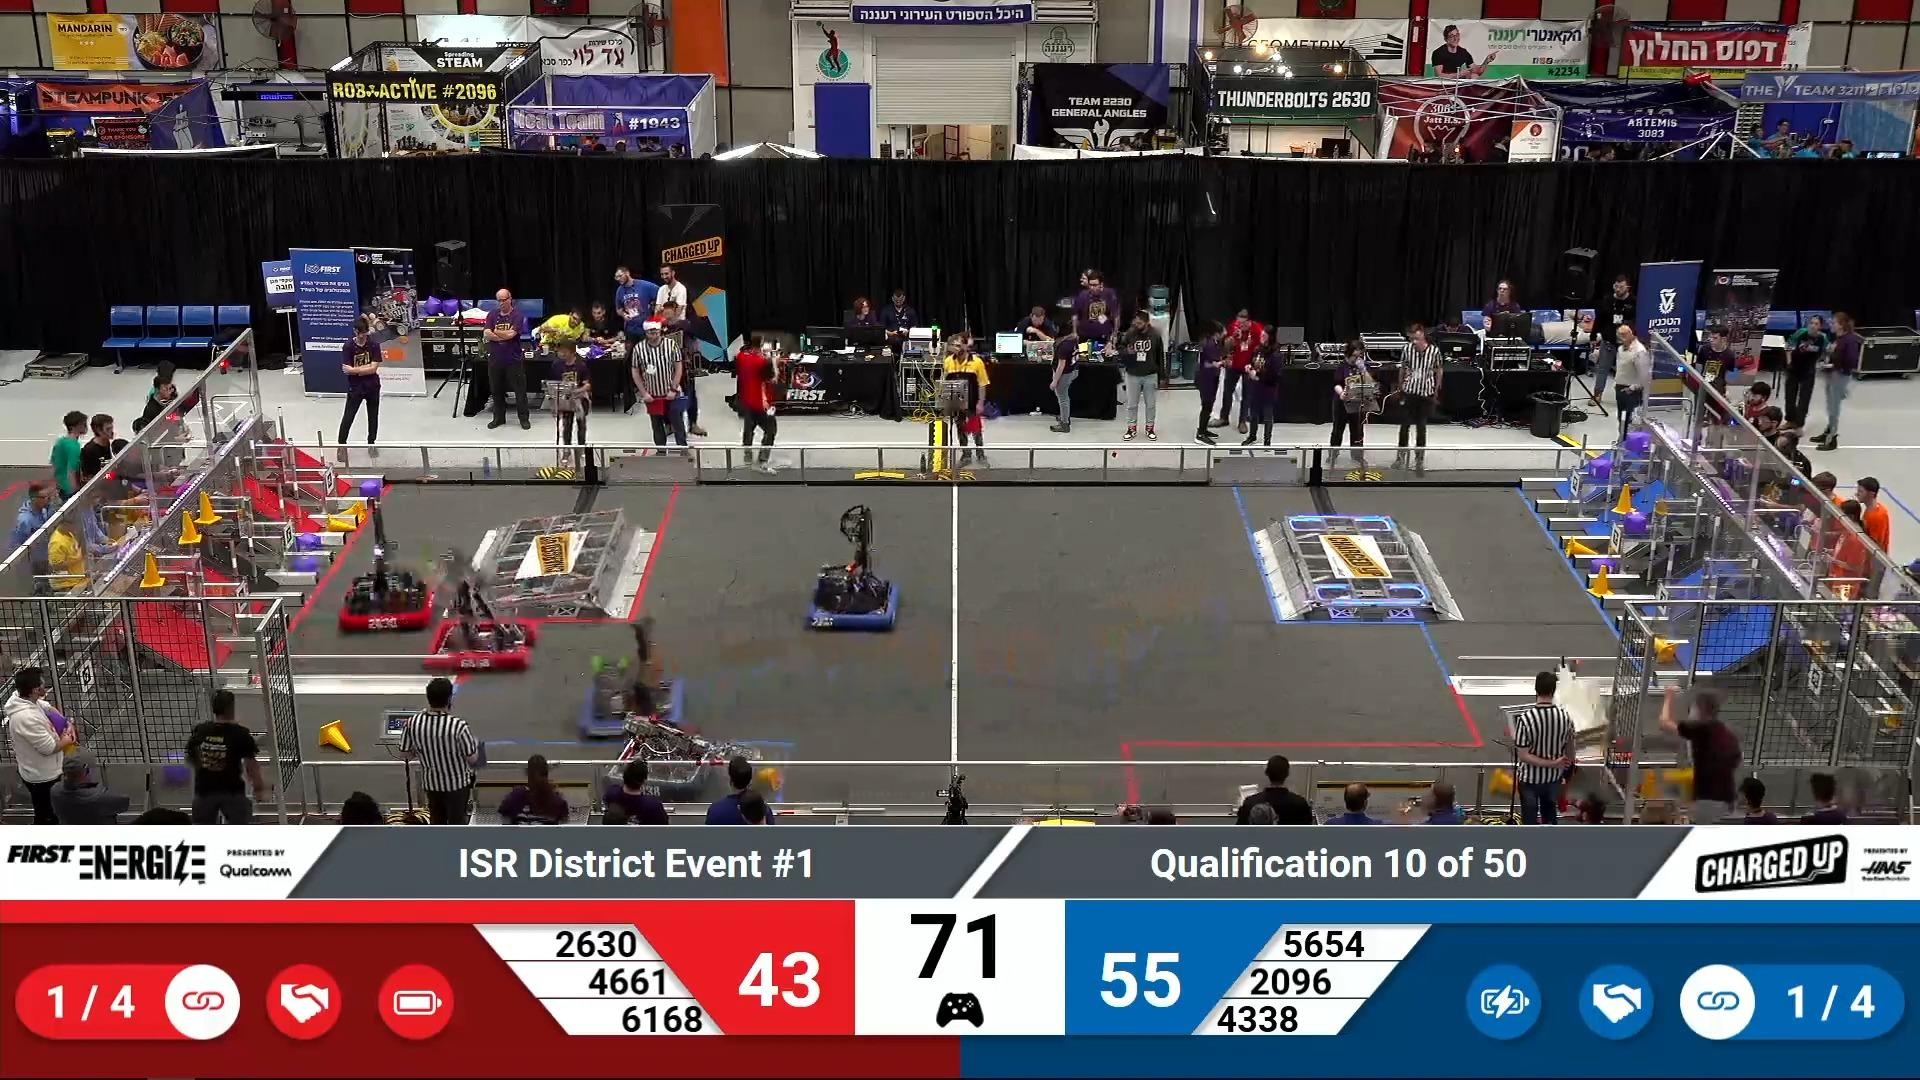robot: (802, 525, 909, 638), (422, 597, 545, 680), (580, 647, 684, 741), (334, 554, 438, 636), (604, 717, 708, 798)
